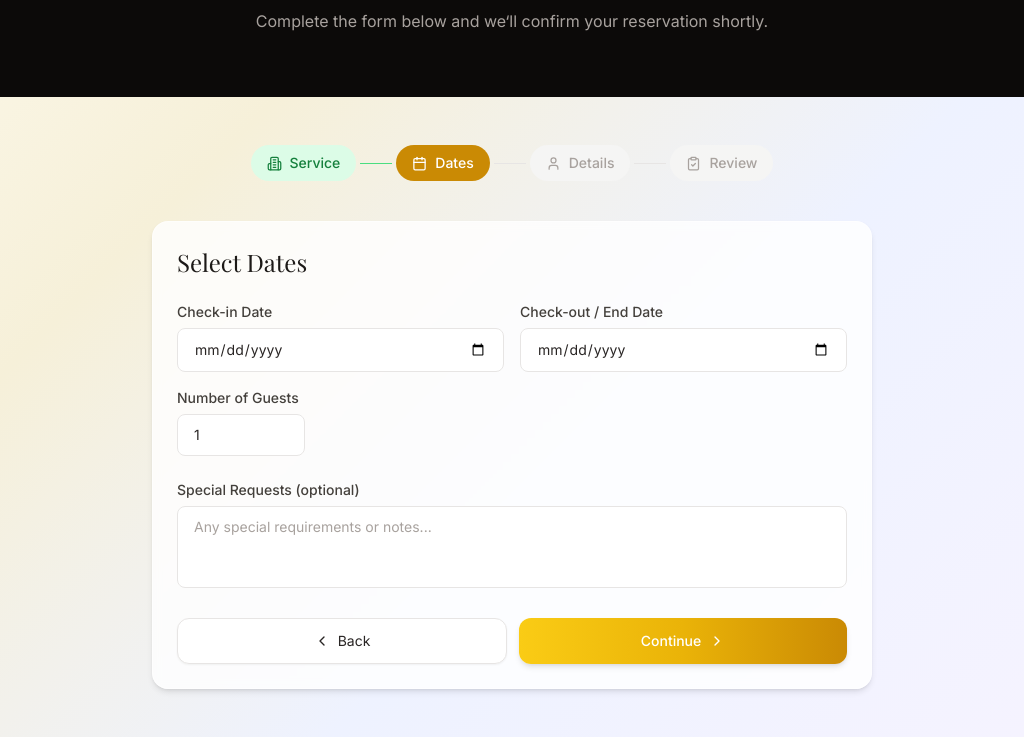
Test: BookingPage › auto-advances to step 2 when asset and type query params are provided
(page scrolled)
Expected: the heading "Select Dates" is shown, [177, 246, 307, 278]
Should be able to proceed directly to step 3
Click the button "Continue": coordinates (683, 641) [519, 618, 847, 664]
(page scrolled)
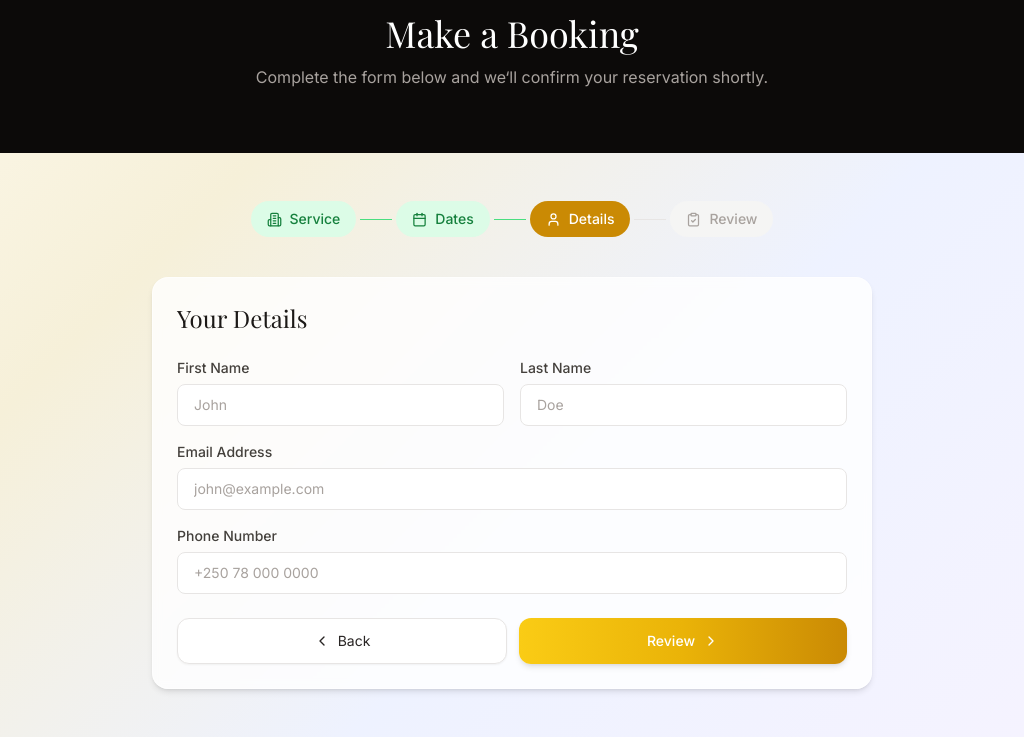
Expected: the field with placeholder "John" is shown, [177, 384, 504, 426]
